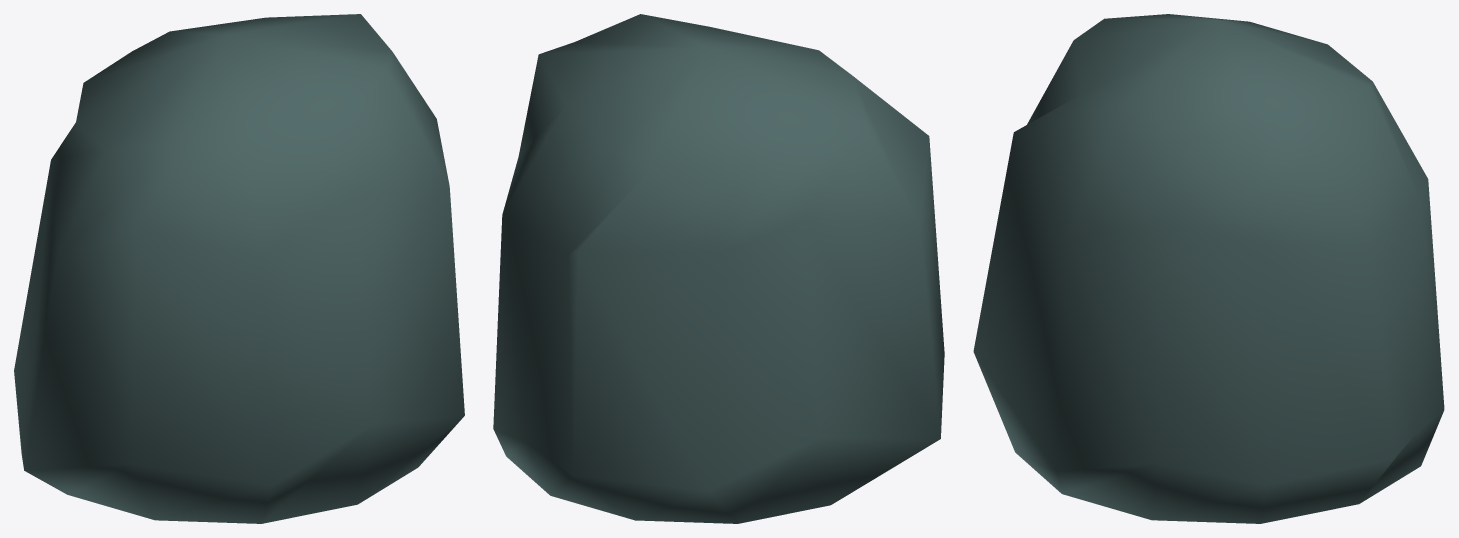
Rendered from Thrashbag2.fbx.
The picture shows the model from 3 angles, left to right: view 1: azimuth 30°, elevation 25°; view 2: azimuth 150°, elevation 25°; view 3: azimuth 270°, elevation 25°; orthographic projection. The views are drawn at different scales.
Parts seen in each view (by area): view 1: Trashbag2; view 2: Trashbag2; view 3: Trashbag2.
Part boxes in pixels (bbox=[...]): Trashbag2: bbox=[14, 14, 464, 523]; Trashbag2: bbox=[493, 14, 944, 523]; Trashbag2: bbox=[973, 14, 1444, 523].
Bounding box in the file's own units: 167 × 154 × 158.
